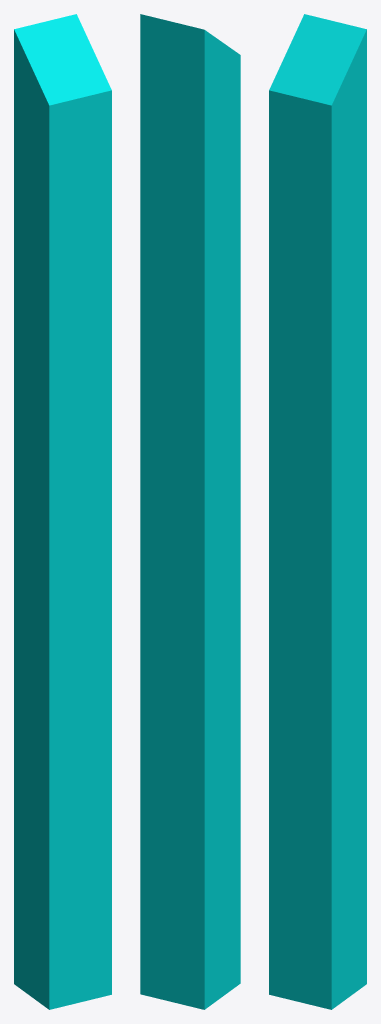
The model's file is SM_Store_Pillar.fbx.
The picture shows the model from 3 angles, left to right: view 1: azimuth 30°, elevation 25°; view 2: azimuth 150°, elevation 25°; view 3: azimuth 330°, elevation 25°; orthographic projection. The views are drawn at different scales.
Visible parts, largest first — view 1: SM_Store_Pillar; view 2: SM_Store_Pillar; view 3: SM_Store_Pillar.
Boxes of the visible parts, x1,y1,x2,y2 form: SM_Store_Pillar: (14,14,111,1009); SM_Store_Pillar: (140,14,240,1009); SM_Store_Pillar: (269,14,366,1009).
Bounding box in the file's own units: 22.96 × 335 × 22.41.
